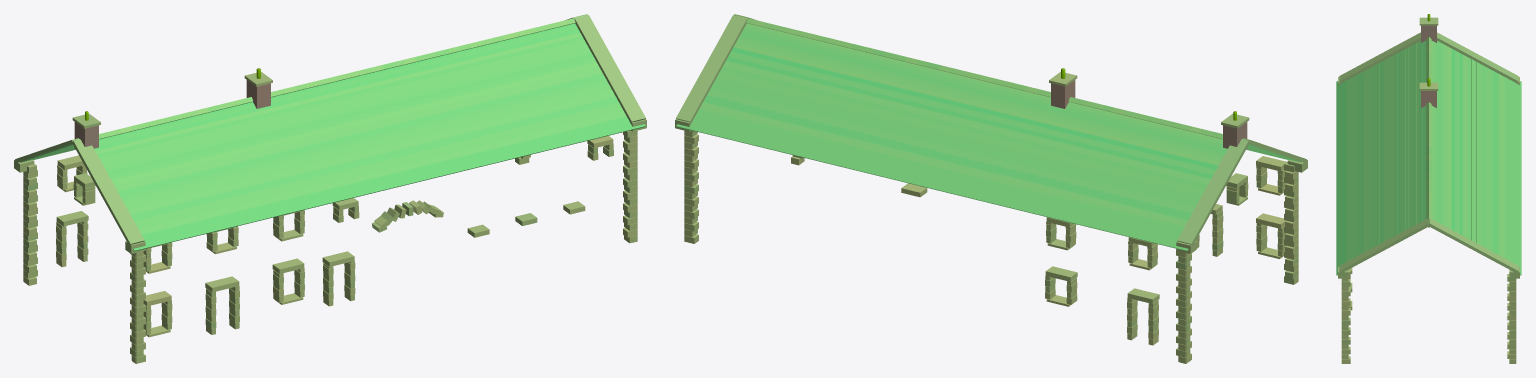
File: SM_Bld_184_Stone.glb
3 views of the same model, side by side, from view 1: azimuth 30°, elevation 25°; view 2: azimuth 150°, elevation 25°; view 3: azimuth 270°, elevation 25° (orthographic). The views are drawn at different scales.
Parts seen in each view (by area): view 1: SM_Bld_184_Stone; view 2: SM_Bld_184_Stone; view 3: SM_Bld_184_Stone.
Part boxes in pixels (x1,y1,x2,y2): SM_Bld_184_Stone: (14, 14, 646, 363); SM_Bld_184_Stone: (675, 14, 1307, 363); SM_Bld_184_Stone: (1336, 14, 1521, 363).
Bounding box in the file's own units: 25.93 × 10.08 × 10.39.
